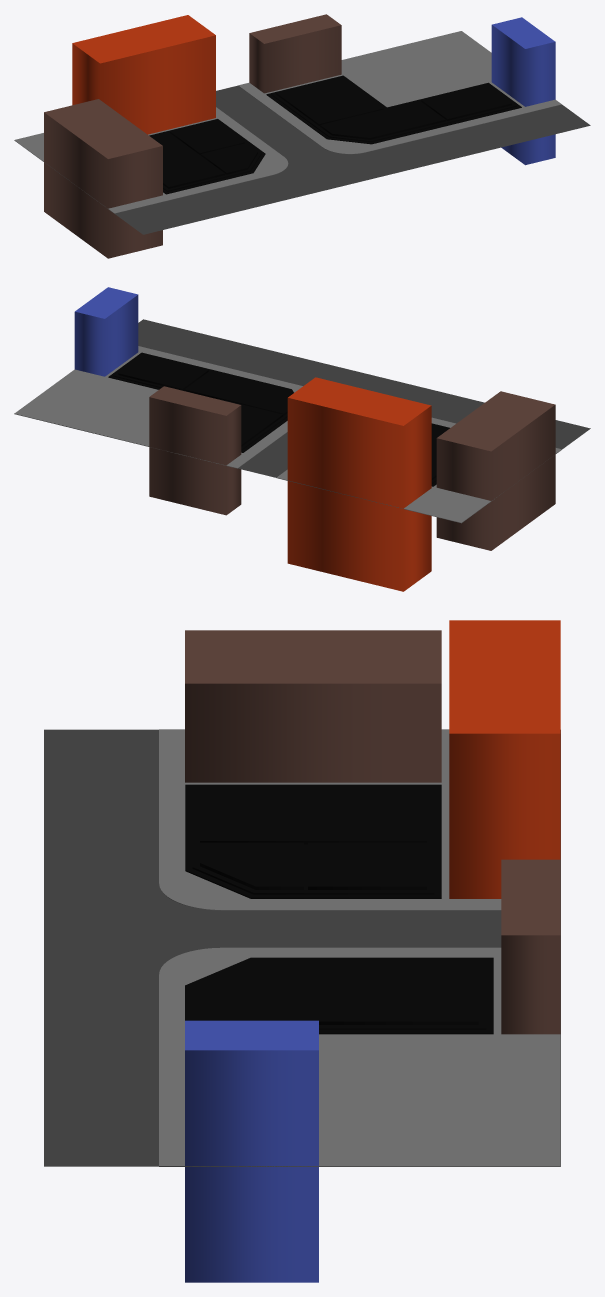
Rendered from test_map.glb.
3 renders of one model, top to bottom at view 1: azimuth 30°, elevation 25°; view 2: azimuth 150°, elevation 25°; view 3: azimuth 270°, elevation 25°, orthographic. The views are drawn at different scales.
Visible parts, largest first — view 1: P0, P3, P4, P1, P6, P5, P2, T3, T4, T0, T5, T2 (+5 smaller); view 2: P4, P3, P5, P0, P1, P6, T4, P2, T5, T3, M1, A1 (+1 smaller); view 3: P0, P1, P3, P6, P4, T0, P2, T3, P5, T4, T2, T1 (+4 smaller).
Part boxes in pixels (<box>): P0: <box>14,85,590,234</box>; P3: <box>44,99,162,258</box>; P4: <box>72,15,215,134</box>; P1: <box>238,31,561,154</box>; P6: <box>491,17,555,165</box>; P5: <box>249,14,341,93</box>; P2: <box>14,107,288,213</box>; T3: <box>276,77,383,125</box>; T4: <box>320,100,445,139</box>; T0: <box>150,132,225,188</box>; T5: <box>421,84,511,120</box>; T2: <box>170,120,244,154</box>; P4: <box>287,377,431,591</box>; P3: <box>436,391,555,550</box>; P5: <box>149,386,241,515</box>; P0: <box>24,319,590,522</box>; P1: <box>14,346,302,468</box>; P6: <box>74,287,138,376</box>; T4: <box>184,370,290,415</box>; P2: <box>276,417,561,523</box>; T5: <box>118,354,208,390</box>; T3: <box>218,399,283,446</box>; M1: <box>108,352,293,452</box>; A1: <box>113,354,291,450</box>; P0: <box>44,729,560,1166</box>; P1: <box>159,947,560,1166</box>; P3: <box>185,630,441,782</box>; P6: <box>185,1020,318,1282</box>; P4: <box>449,620,560,898</box>; T0: <box>200,786,426,844</box>; P2: <box>159,729,501,910</box>; T3: <box>307,959,478,1024</box>; P5: <box>501,859,560,1034</box>; T4: <box>200,959,303,1020</box>; T2: <box>308,842,426,889</box>; T1: <box>200,842,303,889</box>.
Size of what is drawn, in the model's own units: 2.82 by 1 by 1.41.
